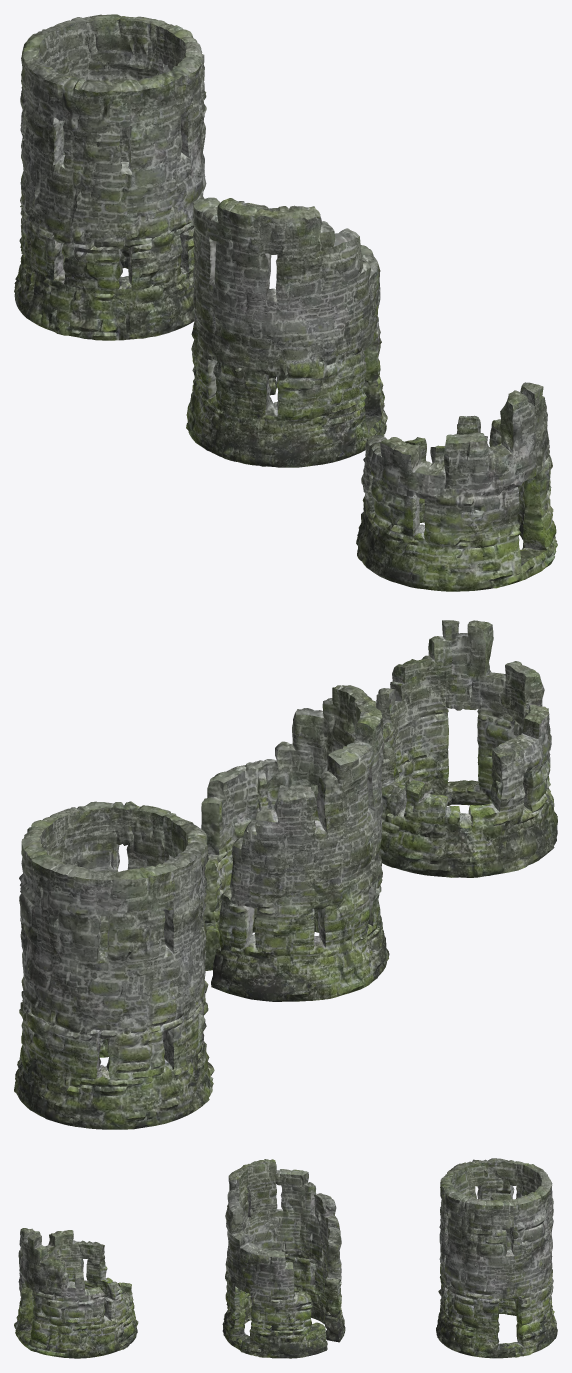
Rendered from ruined-towers.glb.
3 renders of one model, top to bottom at view 1: azimuth 30°, elevation 25°; view 2: azimuth 150°, elevation 25°; view 3: azimuth 270°, elevation 25°, orthographic. The views are drawn at different scales.
Parts seen in each view (by area): view 1: Object_3, Object_2, Object_4; view 2: Object_3, Object_2, Object_4; view 3: Object_3, Object_2, Object_4.
Boxes of the visible parts, box(x1,y1,x2,y2) form: Object_3: box(14, 14, 206, 340); Object_2: box(186, 197, 387, 467); Object_4: box(356, 382, 557, 591); Object_3: box(14, 801, 214, 1129); Object_2: box(201, 685, 389, 1001); Object_4: box(376, 620, 557, 877); Object_3: box(436, 1158, 557, 1358); Object_2: box(222, 1159, 345, 1358); Object_4: box(14, 1228, 138, 1358).
Size of the model in its own units: 46 by 63.24 by 201.
Materials: 3 (3 with a texture image).
